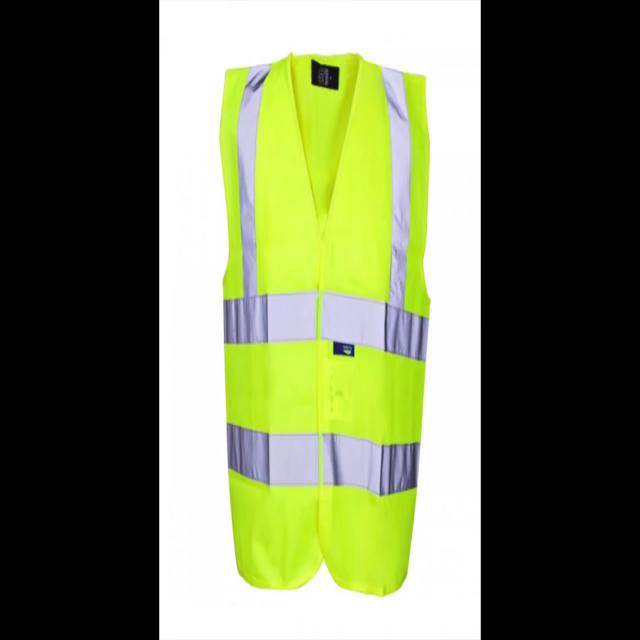Reflective-Jacket: (205, 38, 445, 604)
